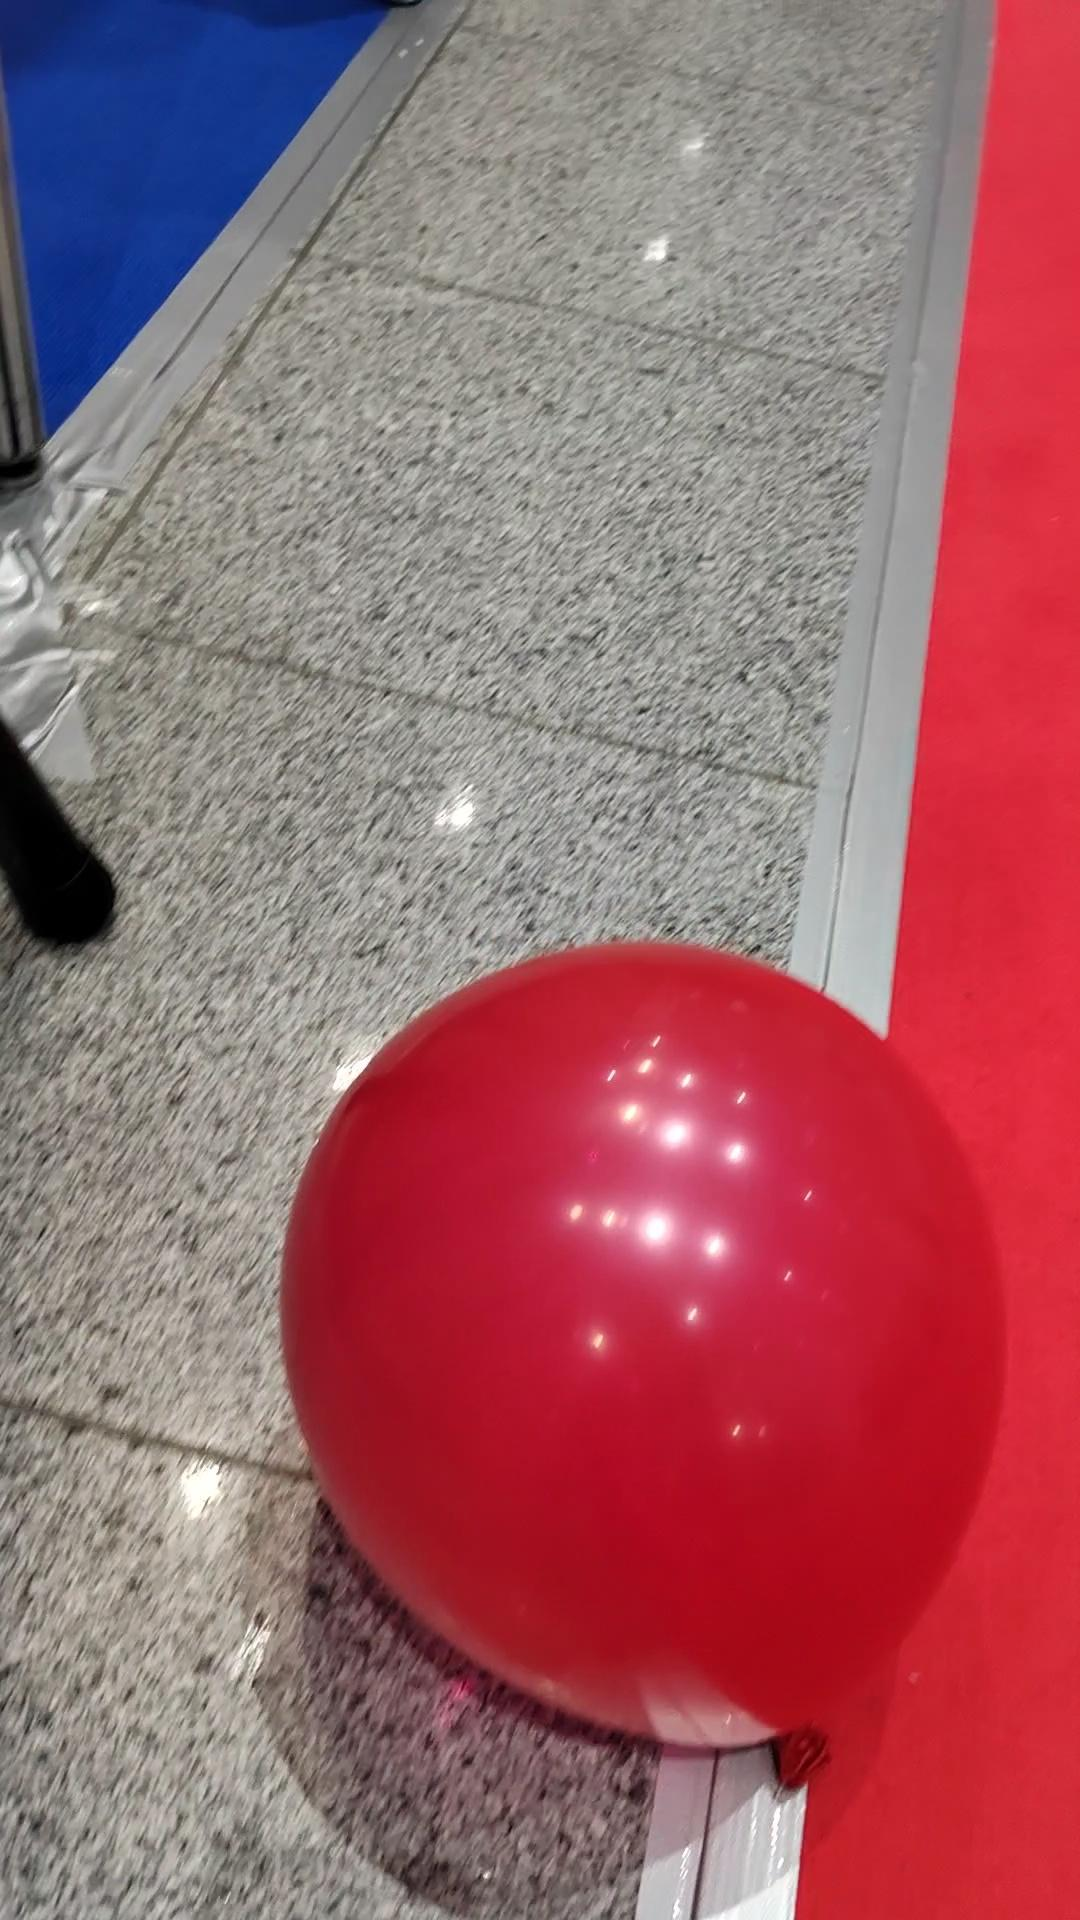red: (270, 937, 1006, 1763)
